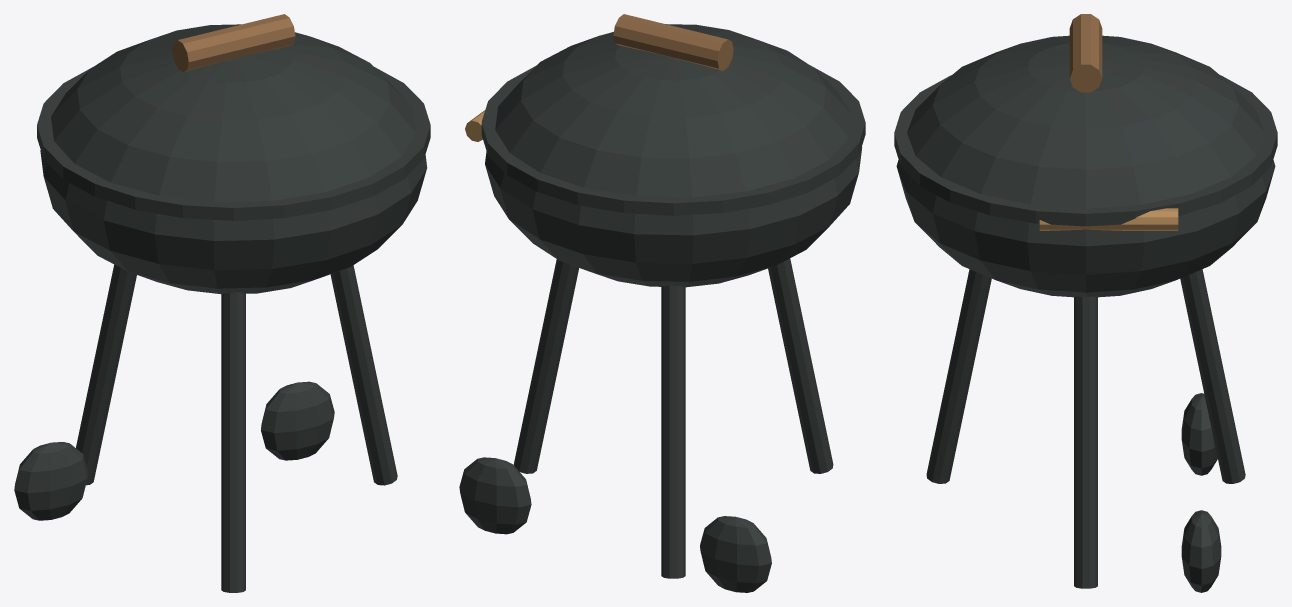
The model's file is SM_RelaxedNeighborHouse_Grill.fbx.
3 views of the same model, side by side, from view 1: azimuth 30°, elevation 25°; view 2: azimuth 150°, elevation 25°; view 3: azimuth 270°, elevation 25° (orthographic). The views are drawn at different scales.
Parts seen in each view (by area): view 1: SM_RelaxedNeighborHouse_Grill; view 2: SM_RelaxedNeighborHouse_Grill; view 3: SM_RelaxedNeighborHouse_Grill.
Boxes of the visible parts, <box> form: SM_RelaxedNeighborHouse_Grill: <box>14,14,430,592</box>; SM_RelaxedNeighborHouse_Grill: <box>459,14,865,592</box>; SM_RelaxedNeighborHouse_Grill: <box>894,14,1277,592</box>.
Size of what is drawn, in the model's own units: 83 by 83 by 117.
